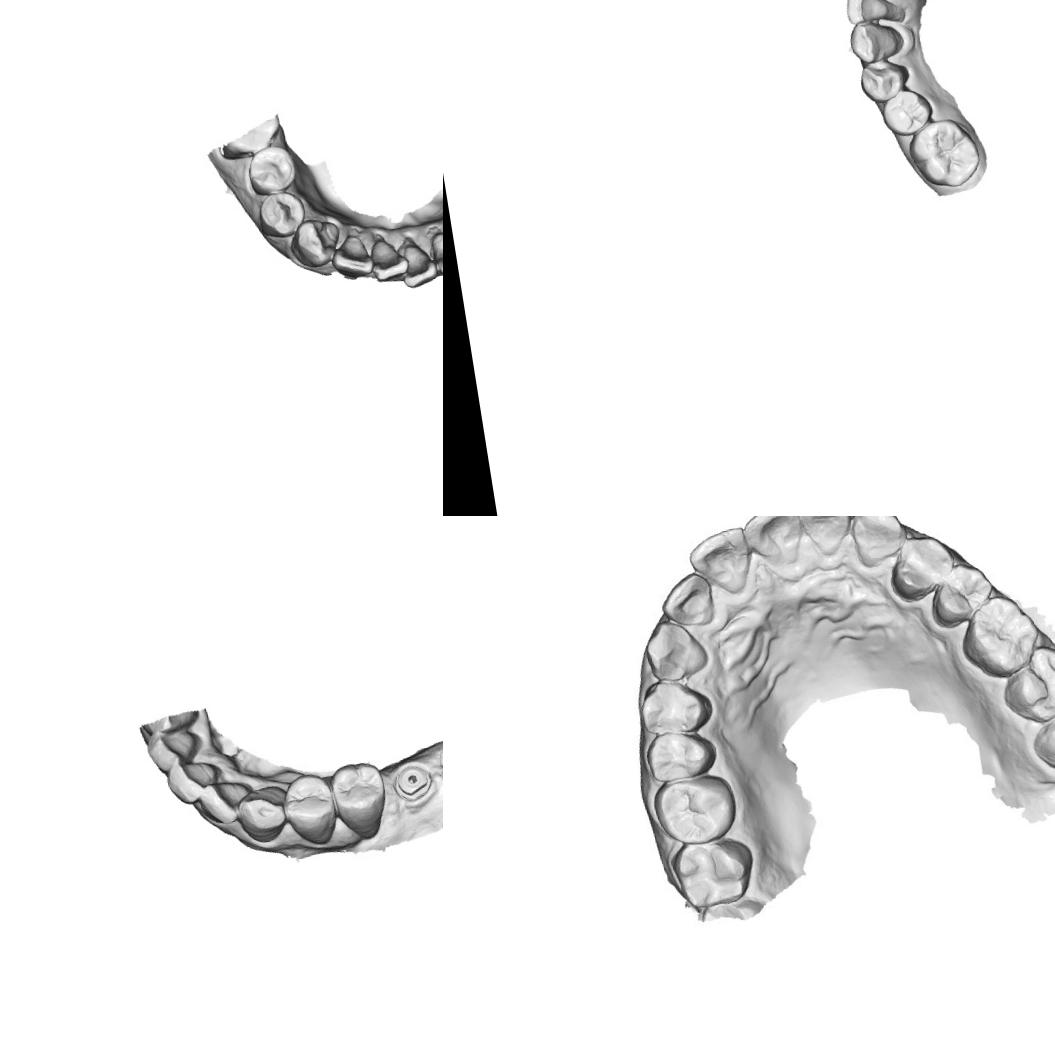canine: (638, 612, 714, 688), (231, 778, 296, 848), (292, 214, 344, 274), (846, 16, 906, 66), (850, 516, 909, 565)
implant: (390, 758, 436, 805)
incisor: (195, 775, 260, 831), (142, 722, 207, 778), (162, 754, 226, 810), (688, 528, 746, 588), (364, 229, 420, 290), (393, 232, 441, 295), (660, 572, 716, 626), (329, 227, 378, 285), (744, 516, 801, 563), (799, 516, 855, 553), (841, 0, 894, 26), (428, 221, 443, 280)
molar: (670, 832, 761, 916), (904, 114, 984, 193), (651, 774, 737, 847), (969, 600, 1037, 668), (1005, 647, 1055, 719), (1039, 703, 1055, 771)
premolar: (324, 756, 398, 847), (276, 766, 344, 854), (640, 675, 712, 734), (893, 532, 956, 598), (242, 141, 307, 199), (932, 563, 994, 621), (644, 729, 707, 782), (878, 85, 936, 140), (255, 187, 308, 241), (856, 56, 914, 104)
